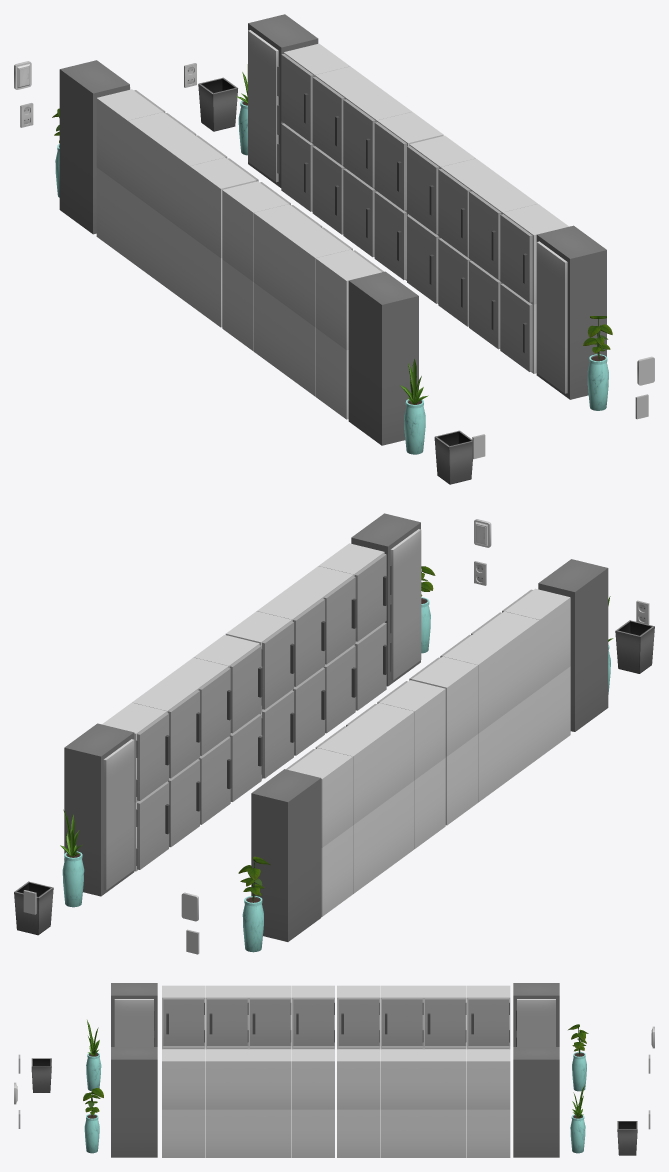
The model's file is Room12Set0.FBX.
3 renders of one model, top to bottom at view 1: azimuth 30°, elevation 25°; view 2: azimuth 150°, elevation 25°; view 3: azimuth 270°, elevation 25°, orthographic. The views are drawn at different scales.
Visible parts, largest first — view 1: chestbox131, chestbox122, chestbox104, chestdoor003, chestdoor004, chestbox121, chestbox130, chestbox124, chestbox115, chestbox128, chestbox117, chestbox126 (+38 smaller); view 2: chestbox122, chestbox131, chestbox113, chestdoor004, chestdoor003, chestbox124, chestbox130, chestbox121, chestbox115, chestbox117, chestbox126, chestbox128 (+38 smaller); view 3: chestbox104, chestbox113, chestbox099, chestbox101, chestbox103, chestbox106, chestbox110, chestbox112, chestbox108, chestbox097, chestbox098, chestbox100 (+34 smaller).
Part boxes in pixels (x1,y1,x2,y2): chestbox131: [348, 271, 418, 445]; chestbox122: [59, 60, 129, 234]; chestbox104: [536, 225, 606, 399]; chestdoor003: [536, 241, 567, 393]; chestdoor004: [248, 30, 279, 182]; chestbox121: [189, 157, 256, 257]; chestbox130: [315, 249, 381, 350]; chestbox124: [222, 181, 288, 281]; chestbox115: [96, 89, 162, 189]; chestbox128: [284, 227, 350, 327]; chestbox117: [127, 112, 193, 212]; chestbox126: [253, 204, 319, 304]; chestbox122: [251, 769, 321, 941]; chestbox131: [538, 559, 608, 731]; chestbox113: [64, 723, 134, 896]; chestdoor004: [103, 739, 134, 890]; chestdoor003: [390, 529, 421, 680]; chestbox124: [411, 656, 477, 756]; chestbox130: [504, 588, 570, 688]; chestbox121: [379, 680, 445, 779]; chestbox115: [288, 748, 352, 847]; chestbox117: [318, 725, 383, 825]; chestbox126: [443, 634, 508, 733]; chestbox128: [474, 611, 539, 710]; chestbox104: [111, 1047, 157, 1157]; chestbox113: [513, 1047, 559, 1157]; chestbox099: [248, 1049, 291, 1109]; chestbox101: [205, 1049, 248, 1109]; chestbox103: [162, 1049, 205, 1109]; chestbox106: [467, 1049, 510, 1109]; chestbox110: [380, 1049, 423, 1109]; chestbox112: [337, 1049, 380, 1109]; chestbox108: [423, 1049, 466, 1109]; chestbox097: [292, 1049, 334, 1109]; chestbox098: [248, 1109, 291, 1157]; chestbox100: [205, 1109, 248, 1157].
Bounding box in the file's own units: 33.83 × 20.38 × 120.
